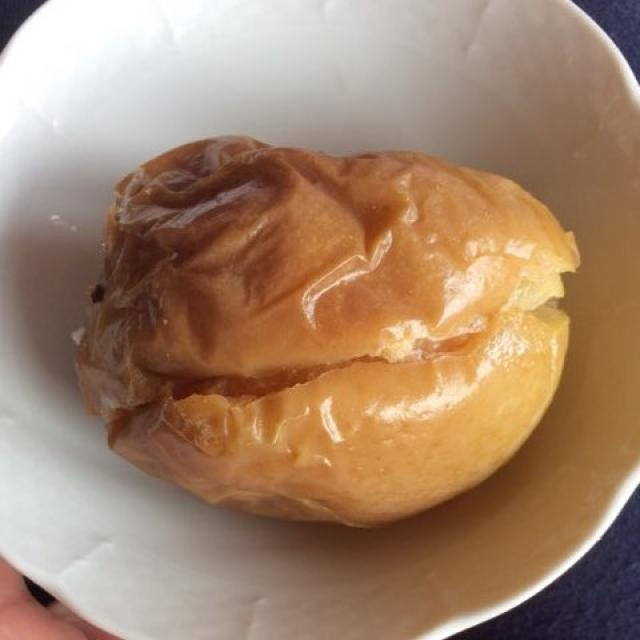apple: (95, 143, 575, 519)
